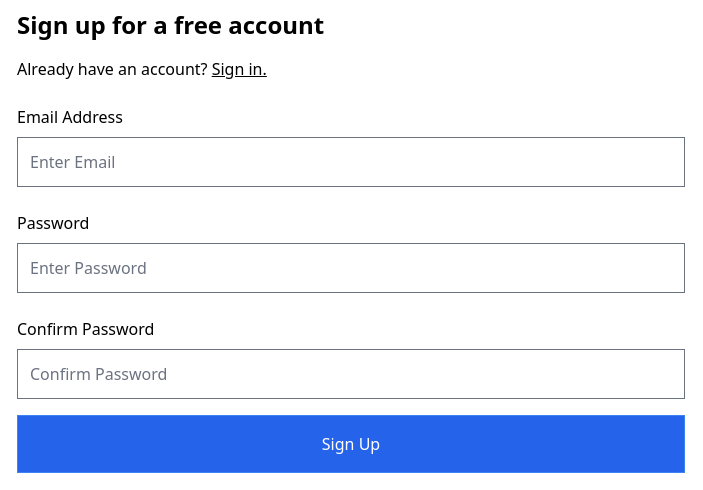
Test: Should allow user to input their username
Click the field with placeholder "Enter Email" at (351, 162), box [17,137,685,187]
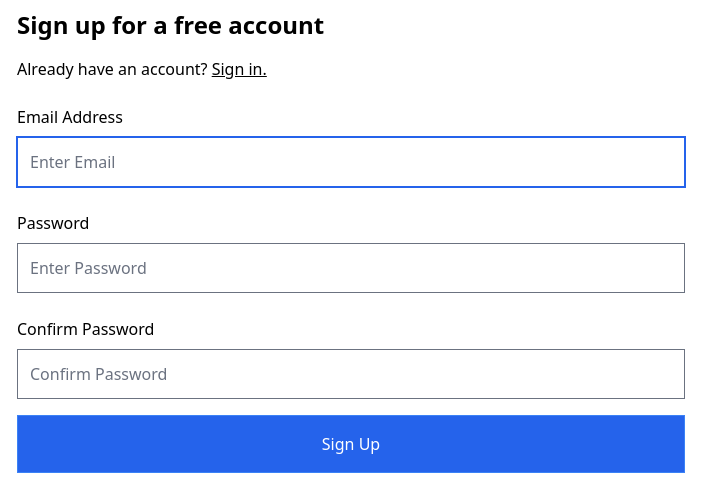
Type keys "Testing Username"
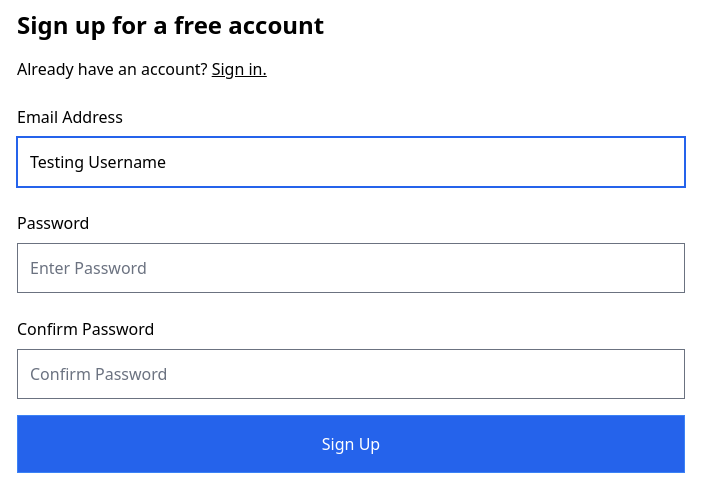
Check: the field with placeholder "Enter Email" holds "Testing Username", box [17,137,685,187]
